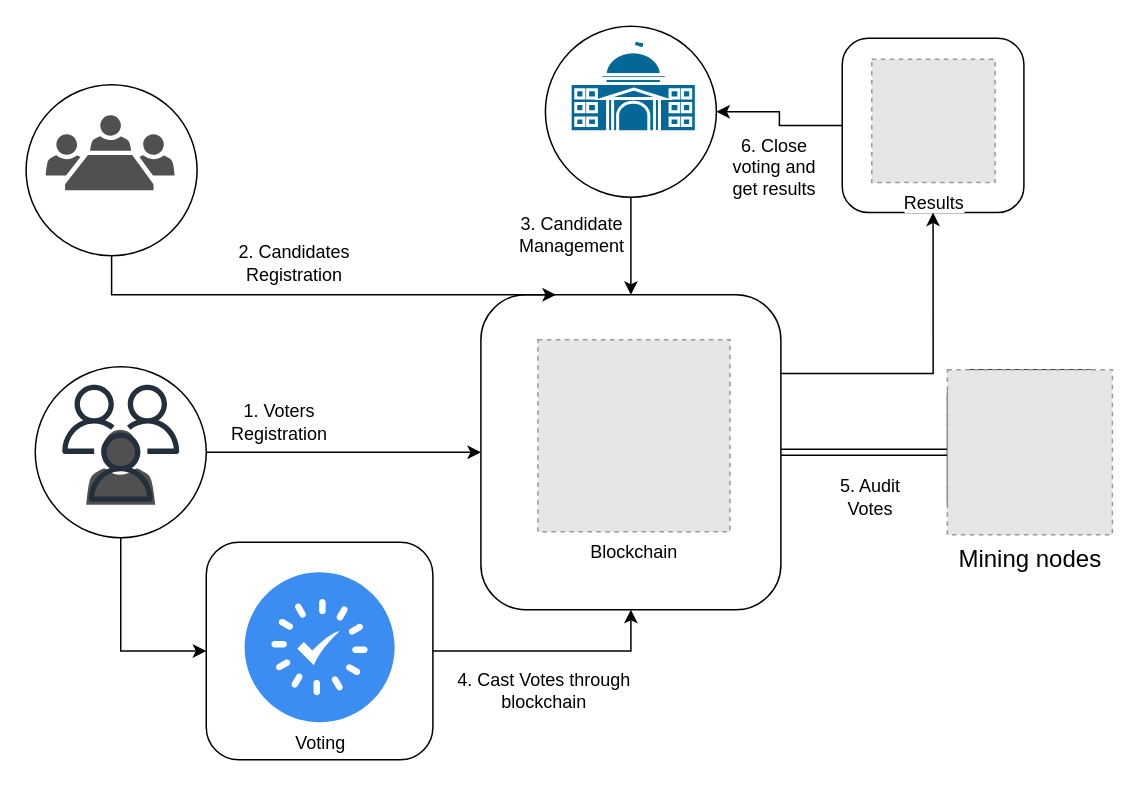
The diagram is 1140 pixels wide and 786 high, and some of its shapes have lost their labels. Grey dashed boxes stand in for pictures. The centre of each missing label's shape, as x and y in pixels:
Candidates: (x=109, y=151)
Election Authority: (x=632, y=85)
Voters: (x=120, y=442)
